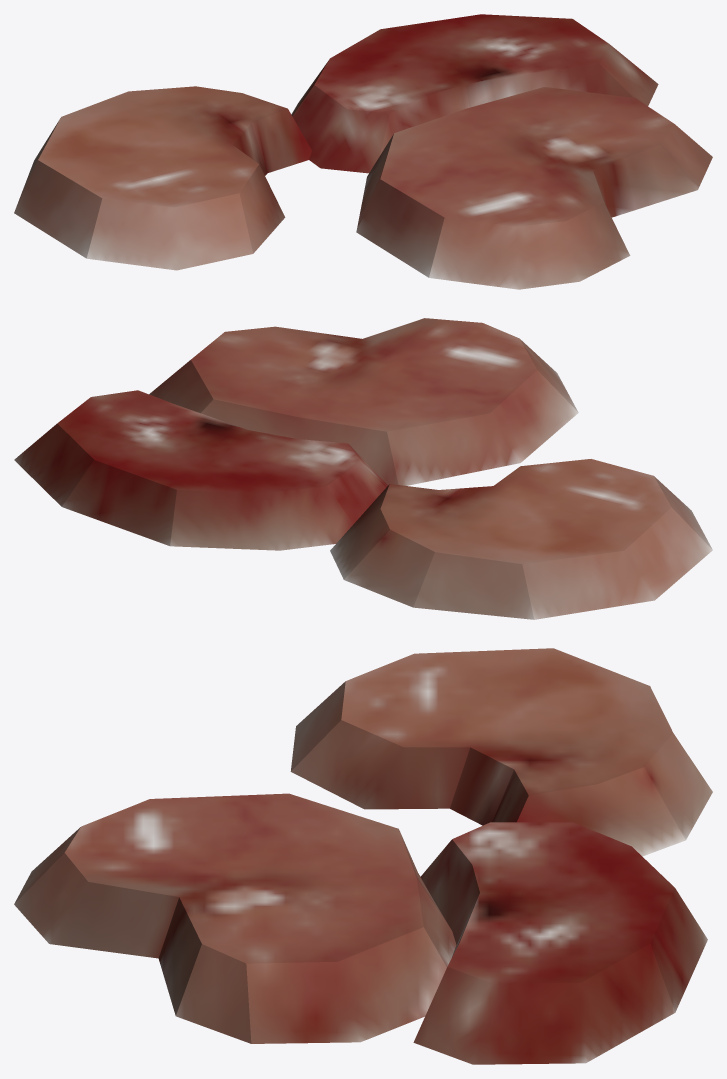
File: human_kidneys.FBX
3 views of the same model, one above another, from view 1: azimuth 30°, elevation 25°; view 2: azimuth 150°, elevation 25°; view 3: azimuth 270°, elevation 25° (orthographic). The views are drawn at different scales.
Parts seen in each view (by area): view 1: kidneys; view 2: kidneys; view 3: kidneys.
Boxes of the visible parts, left/top/right/bottom form: kidneys: left=14, top=14, right=712, bottom=289; kidneys: left=14, top=318, right=712, bottom=619; kidneys: left=14, top=648, right=712, bottom=1064.
Size of the model in its own units: 19.24 by 1.32 by 15.06.
